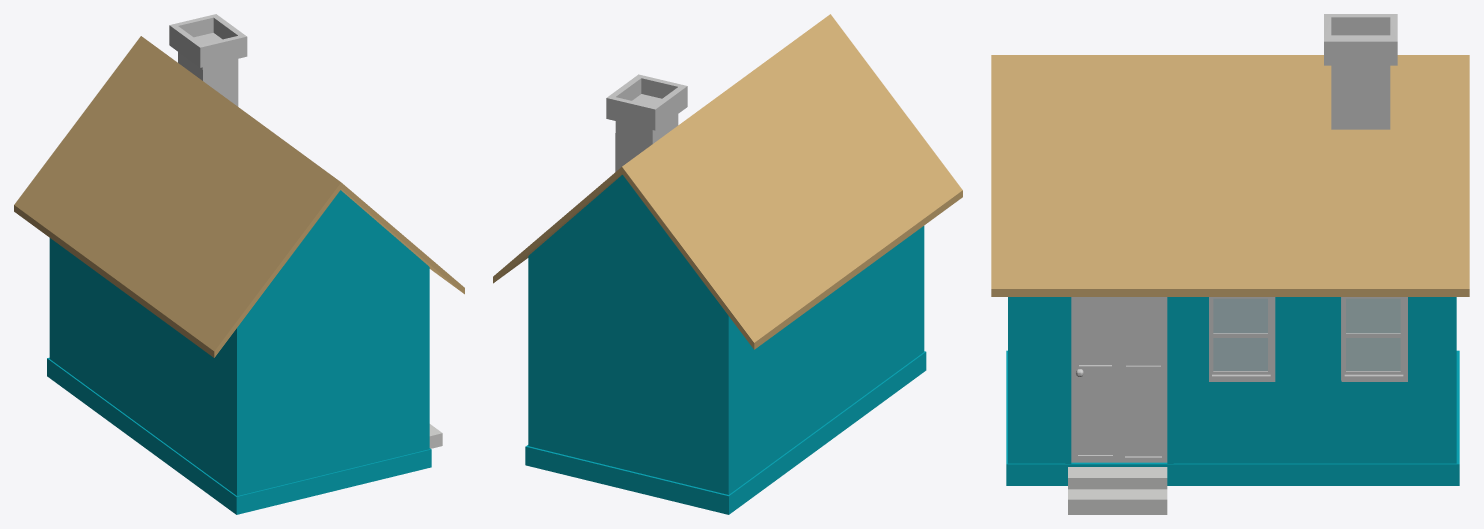
Rendered from house_blue.dae.
The picture shows the model from 3 angles, left to right: view 1: azimuth 30°, elevation 25°; view 2: azimuth 150°, elevation 25°; view 3: azimuth 270°, elevation 25°; orthographic projection. The views are drawn at different scales.
Visible parts, largest first — view 1: Mesh_003_janela001_Cube_005; view 2: Mesh_003_janela001_Cube_005; view 3: Mesh_003_janela001_Cube_005.
Part boxes in pixels (x1,y1,x2,y2): Mesh_003_janela001_Cube_005: (14,14,464,514); Mesh_003_janela001_Cube_005: (493,14,962,514); Mesh_003_janela001_Cube_005: (991,14,1469,514).
Size of the model in its own units: 3.34 by 4.45 by 4.32.
10 materials, 1 textured.
